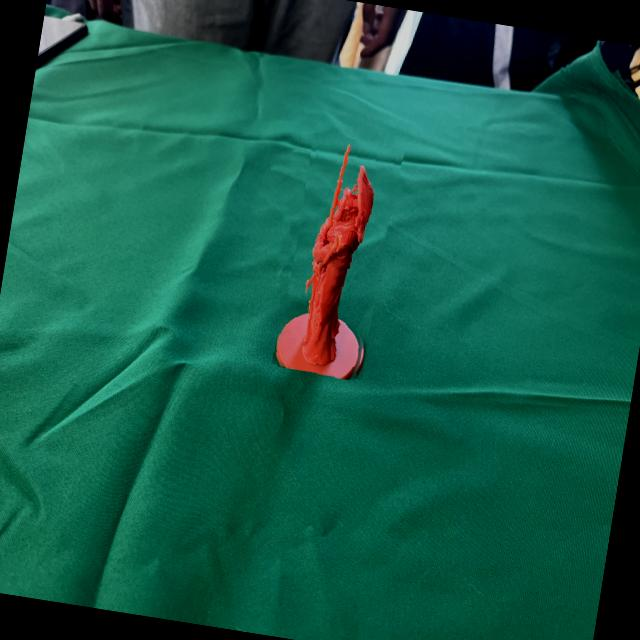amon: (274, 131, 402, 382)
